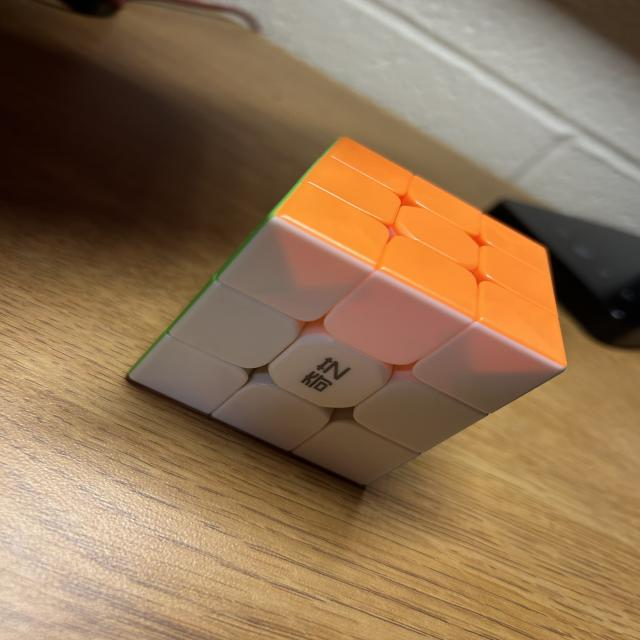Rubiks Cube: (126, 134, 567, 488)
